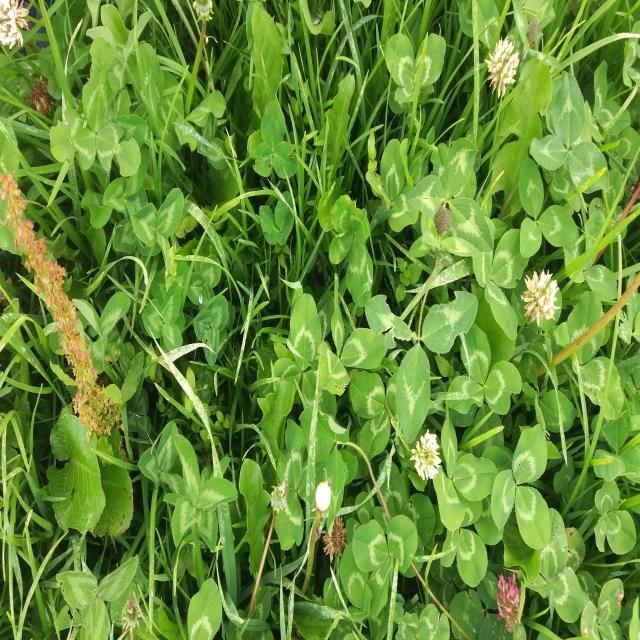Four Leaf Clover: (329, 194, 374, 307)
